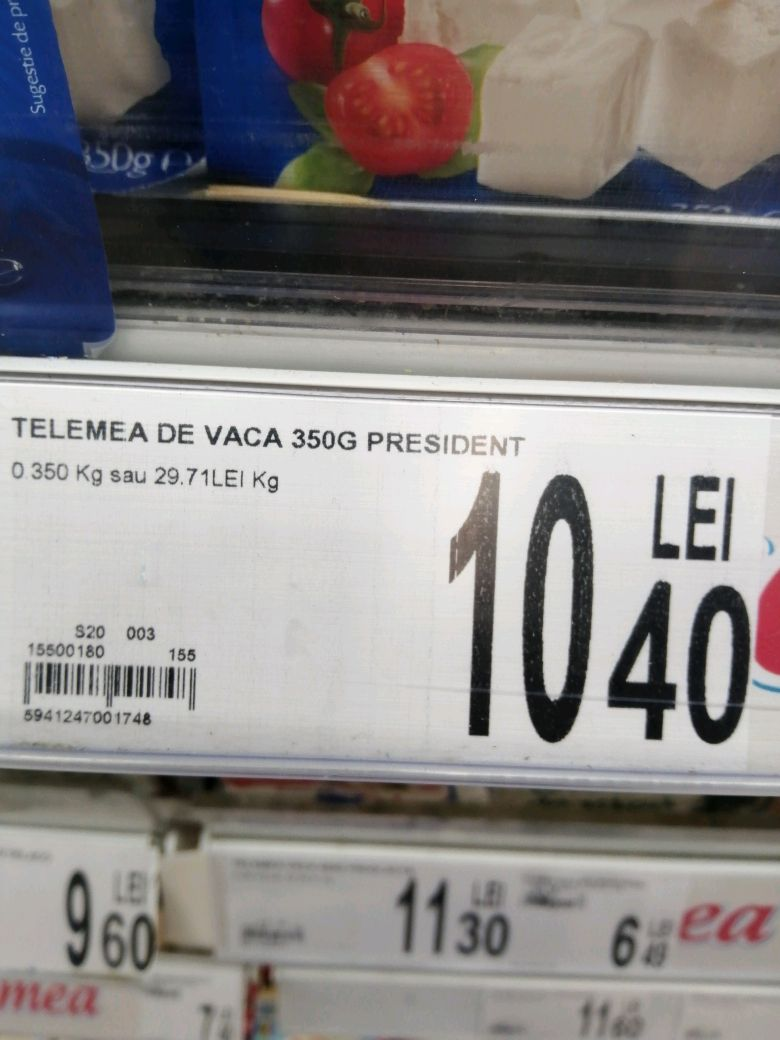price_bani: (606, 569, 755, 758)
price_lei: (428, 468, 601, 756)
price_tag: (1, 376, 772, 798)
product_id: (13, 707, 170, 732)
product_name: (5, 410, 543, 462)
